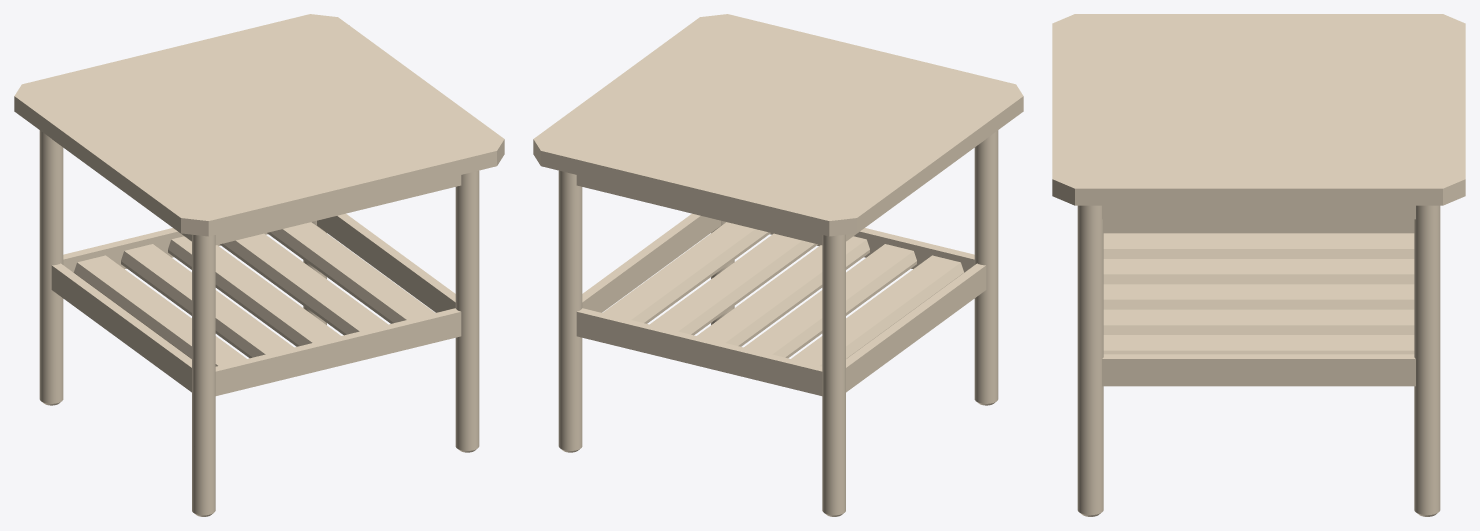
Rendered from 486_サイドテーブル.glb.
The picture shows the model from 3 angles, left to right: view 1: azimuth 30°, elevation 25°; view 2: azimuth 150°, elevation 25°; view 3: azimuth 270°, elevation 25°; orthographic projection. The views are drawn at different scales.
Visible parts, largest first — view 1: Body; view 2: Body; view 3: Body.
Part boxes in pixels (<box>): Body: <box>14,14,504,516</box>; Body: <box>533,14,1023,516</box>; Body: <box>1052,14,1465,516</box>.
Size of the model in its own units: 0.55 by 0.5 by 0.55.
